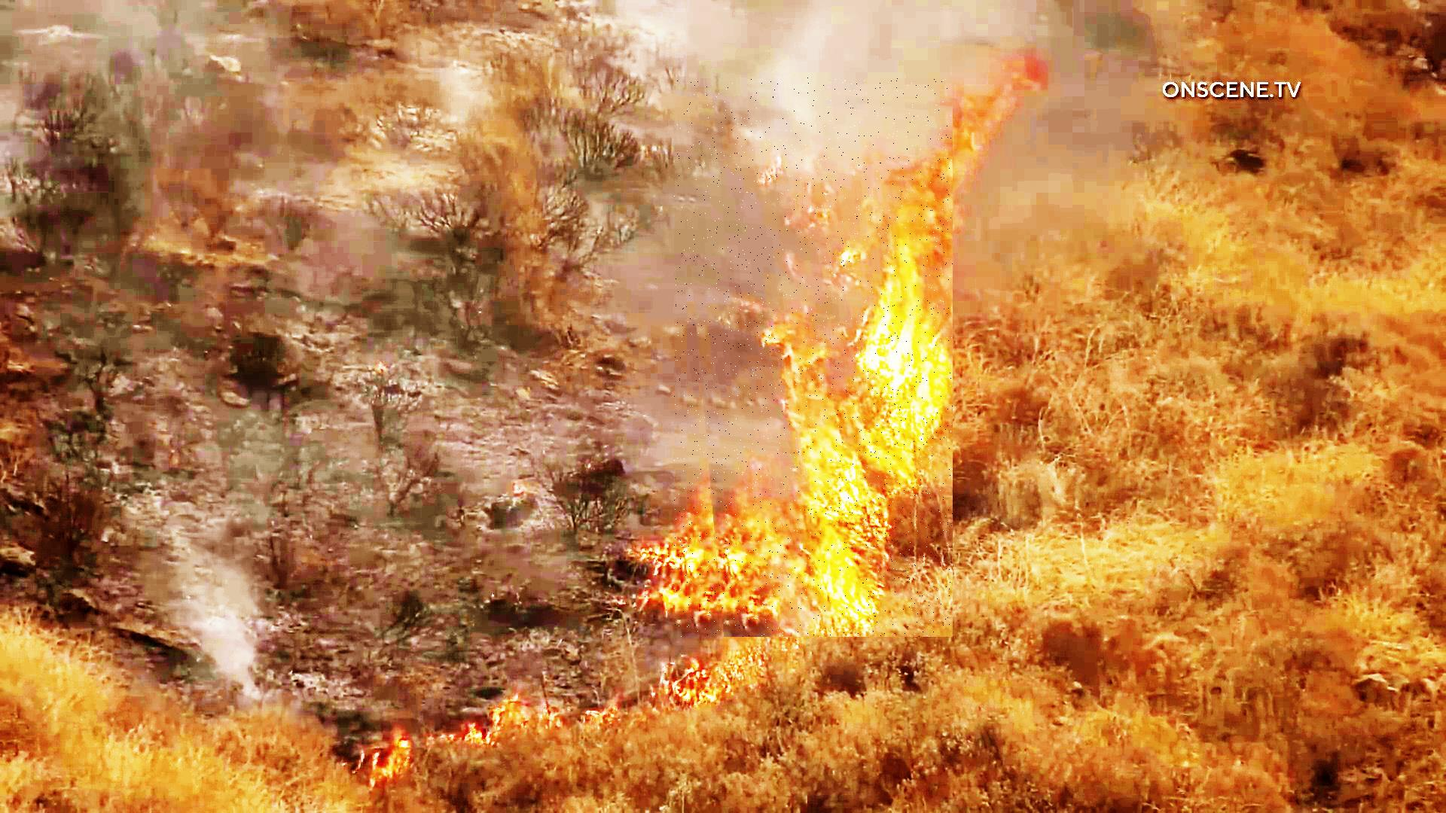fire: (674, 78, 953, 637)
